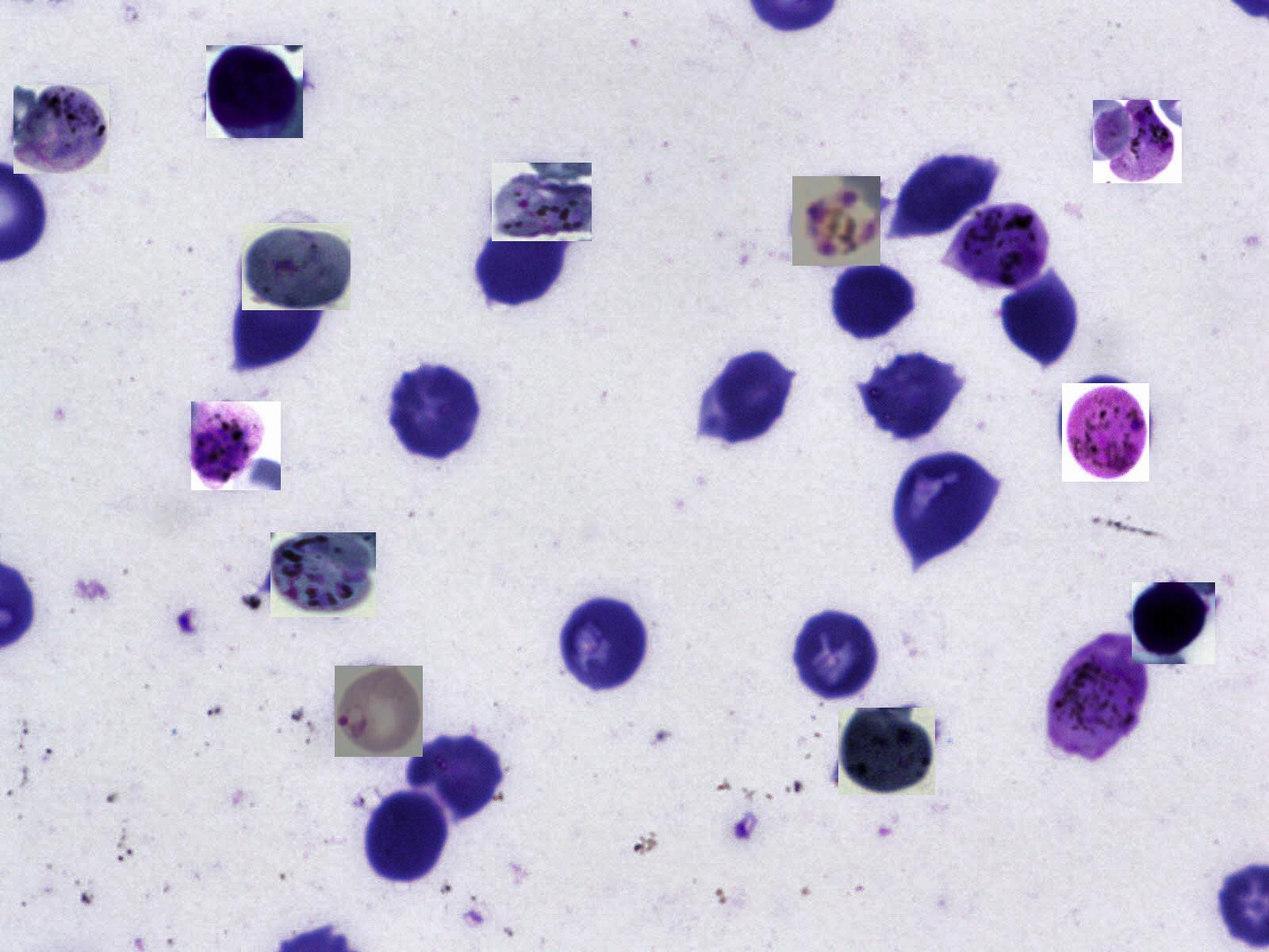Infected: (1044, 633, 1146, 758), (945, 198, 1052, 292), (242, 223, 351, 310), (206, 45, 303, 138), (270, 532, 376, 617), (1062, 383, 1149, 482), (13, 85, 109, 174), (838, 708, 935, 795), (191, 401, 281, 490), (335, 666, 423, 757), (792, 176, 880, 266), (492, 163, 592, 241), (1093, 100, 1182, 183), (1132, 582, 1215, 664)
Uninfected: (551, 598, 652, 697), (896, 457, 988, 562), (389, 363, 482, 459), (863, 350, 963, 439), (788, 608, 880, 704), (232, 277, 320, 374), (705, 351, 796, 443), (362, 789, 449, 885), (898, 152, 1000, 233), (411, 731, 504, 819), (999, 278, 1082, 366), (831, 260, 919, 340), (473, 226, 557, 308)
